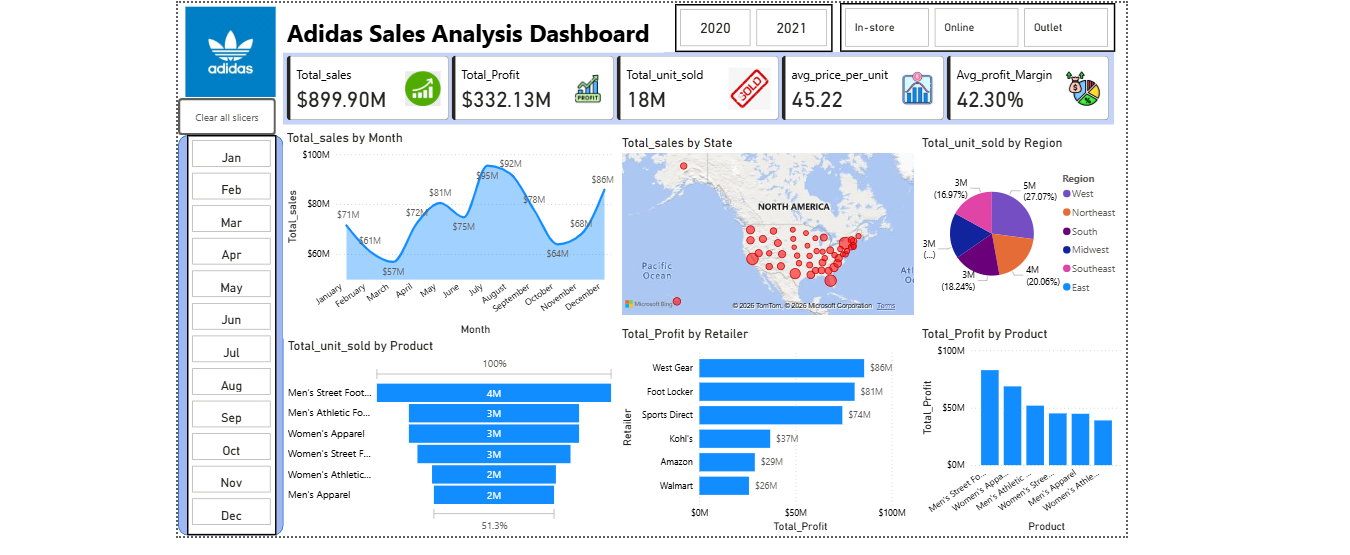

What the dashboard file says about the page in this screenshot:
{"tool":"powerbi","page":{"name":"Page 1","canvas":[1280,720],"ordinal":0},"visuals":[{"type":"cardVisual","fields":{"Data":["DAX.Total_sales","DAX.Total_Profit","DAX.Total_unit_sold","DAX.avg_price_per_unit","DAX.Avg_profit_Margin"]},"box":[142.6,66.2,1123.2,97.9],"z":0},{"type":"image","box":[0,0,142.6,132.5],"z":1000},{"type":"textbox","box":[142.6,11.5,514.1,54.7],"z":2000},{"type":"shape","box":[0,178.6,142.6,541.4],"z":3000},{"type":"areaChart","fields":{"Category":["Data Sales Adidas.Invoice Date.Variation.Date Hierarchy.Month"],"Y":["DAX.Total_sales"]},"box":[142.6,171.4,452.2,282.2],"z":4000},{"type":"map","fields":{"Category":["Data Sales Adidas.State"],"Size":["DAX.Total_sales"]},"box":[594.7,178.6,404.6,247.7],"z":5000},{"type":"pieChart","fields":{"Category":["Data Sales Adidas.Region"],"Y":["DAX.Total_unit_sold"]},"box":[999.4,178.6,280.8,247.7],"z":6000},{"type":"funnel","fields":{"Y":["DAX.Total_unit_sold"],"Category":["Data Sales Adidas.Product"]},"box":[143,453,452,267],"z":7000},{"type":"clusteredBarChart","fields":{"Category":["Data Sales Adidas.Retailer"],"Y":["DAX.Total_Profit"]},"box":[594.7,436.3,404.6,283.7],"z":8000},{"type":"clusteredColumnChart","fields":{"Category":["Data Sales Adidas.Product"],"Y":["DAX.Total_Profit"]},"box":[1000,436,280,284],"z":9000},{"type":"advancedSlicerVisual","fields":{"Values":["Data Sales Adidas.Sales Method"]},"box":[894.2,0,371.5,66.2],"z":10000},{"type":"advancedSlicerVisual","fields":{"Values":["Data Sales Adidas.Month"]},"box":[11.5,178.6,121,541.4],"z":11000},{"type":"advancedSlicerVisual","fields":{"Values":["Data Sales Adidas.Invoice Date.Variation.Date Hierarchy.Year"]},"box":[671,1.4,213.1,64.8],"z":12000},{"type":"actionButton","box":[0,128.2,132.5,50.4],"z":12001}]}

Visuals, with their boxes on the page's 1280x720 design canvas (x1, y1, x2, y2). These are canvas units, not pixel positions in the 1350x555 screenshot, which may show the page scaled, cropped or inside an application window:
cardVisual - DAX.Total_sales x DAX.Total_Profit: 143,66,1266,164
image: 0,0,143,132
textbox: 143,12,657,66
shape: 0,179,143,720
areaChart - Data Sales Adidas.Invoice Date.Variation.Date Hierarchy.Month x DAX.Total_sales: 143,171,595,454
map - Data Sales Adidas.State x DAX.Total_sales: 595,179,999,426
pieChart - Data Sales Adidas.Region x DAX.Total_unit_sold: 999,179,1280,426
funnel - DAX.Total_unit_sold x Data Sales Adidas.Product: 143,453,595,720
clusteredBarChart - Data Sales Adidas.Retailer x DAX.Total_Profit: 595,436,999,720
clusteredColumnChart - Data Sales Adidas.Product x DAX.Total_Profit: 1000,436,1280,720
advancedSlicerVisual - Data Sales Adidas.Sales Method: 894,0,1266,66
advancedSlicerVisual - Data Sales Adidas.Month: 12,179,132,720
advancedSlicerVisual - Data Sales Adidas.Invoice Date.Variation.Date Hierarchy.Year: 671,1,884,66
actionButton: 0,128,132,179
